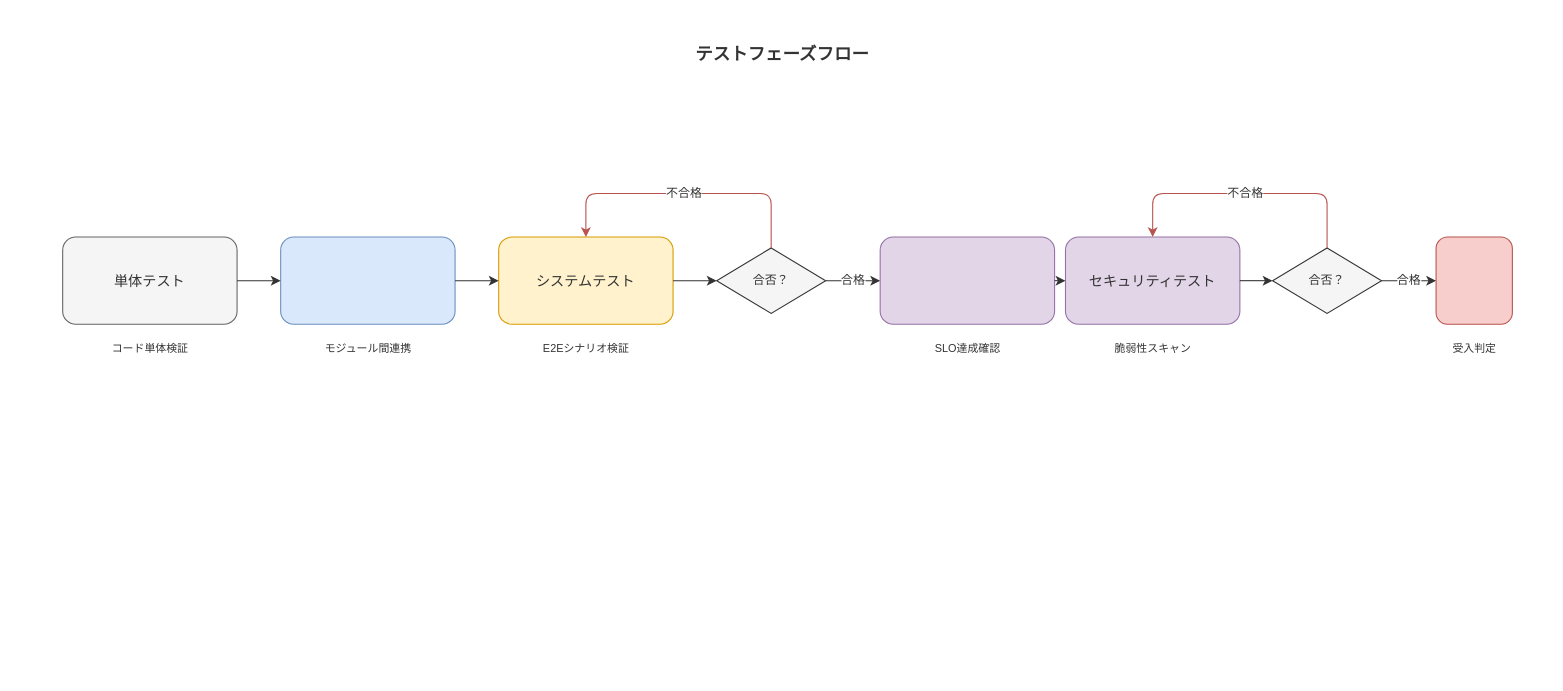
This 1563x691 diagram has some shape labels left out. Here are the shapes that lost their labels. From the top down, the box of each, then its label:
(280, 236, 455, 324): 結合テスト
(879, 236, 1055, 324): 性能テスト
(1435, 236, 1512, 324): 受入テスト
